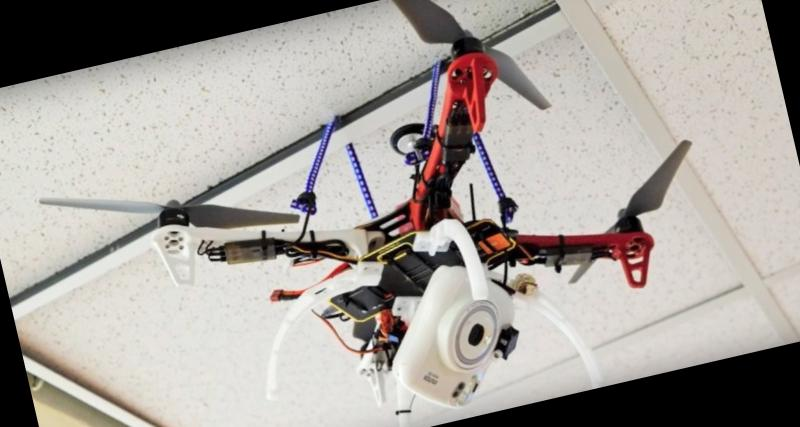drone: (29, 0, 722, 427)
